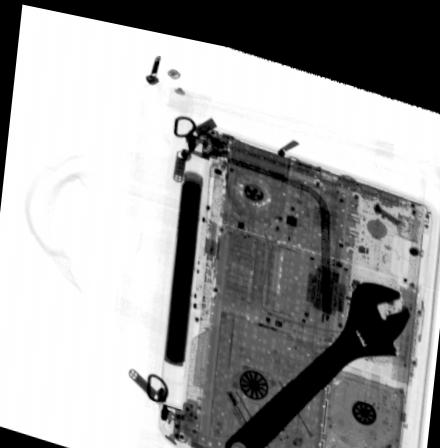Wrench: (222, 260, 414, 448)
